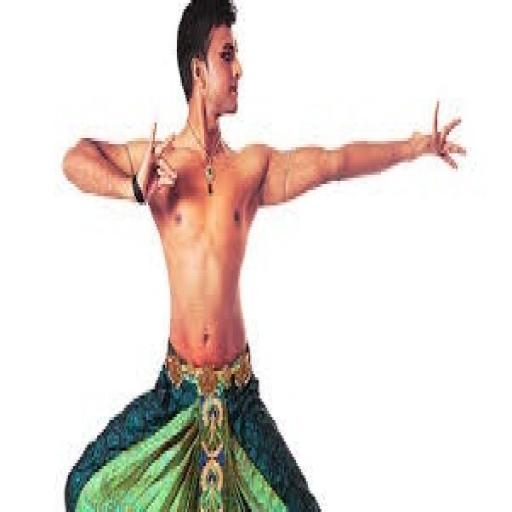dancing: (60, 0, 468, 509)
